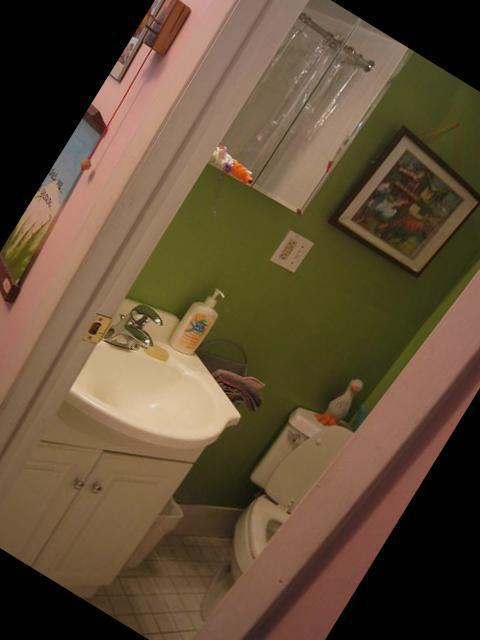Bote de Basura: (103, 480, 199, 595)
Lavamanos: (22, 273, 256, 488)
